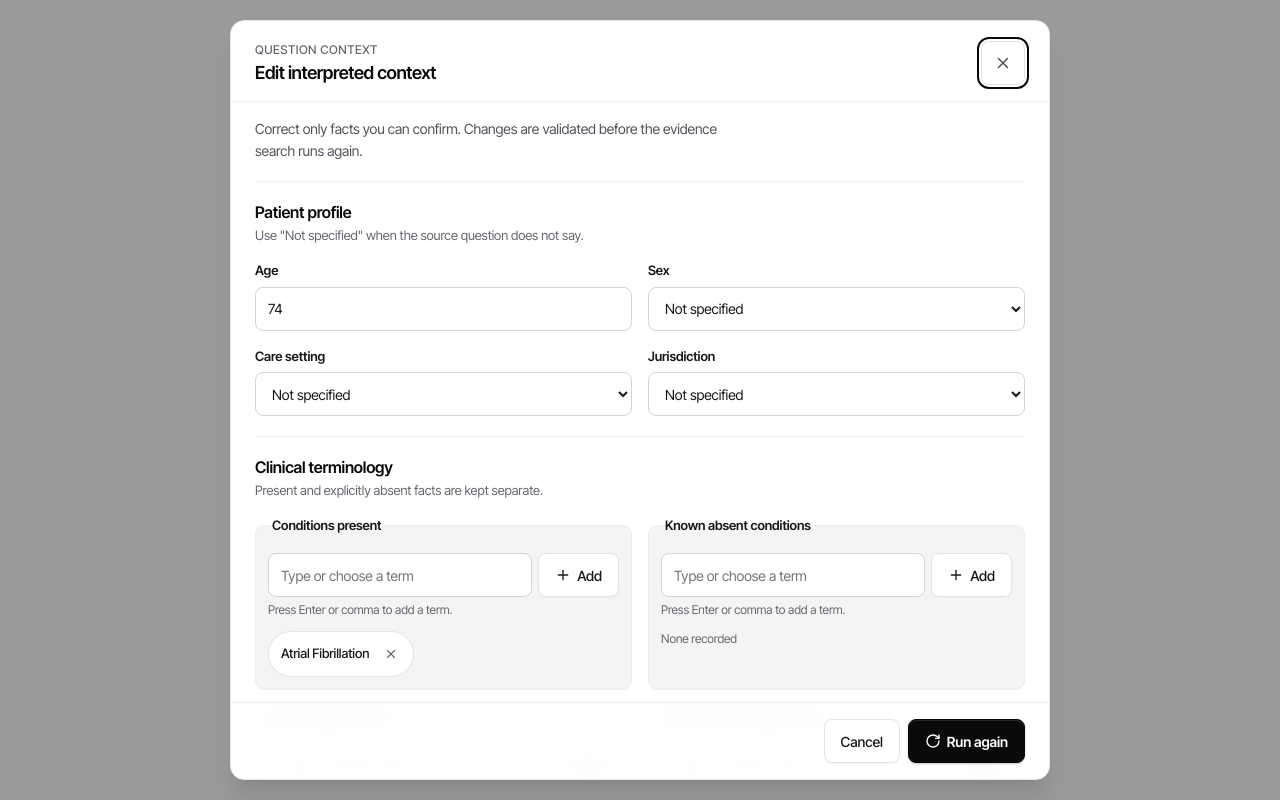
Scenario: ContextDialog › shows contradiction errors inline and prevents invalid submission
In the field named "Add known absent conditions": x=793, y=575 [661, 553, 925, 597], type "atrial fibrillation"
Then press Enter
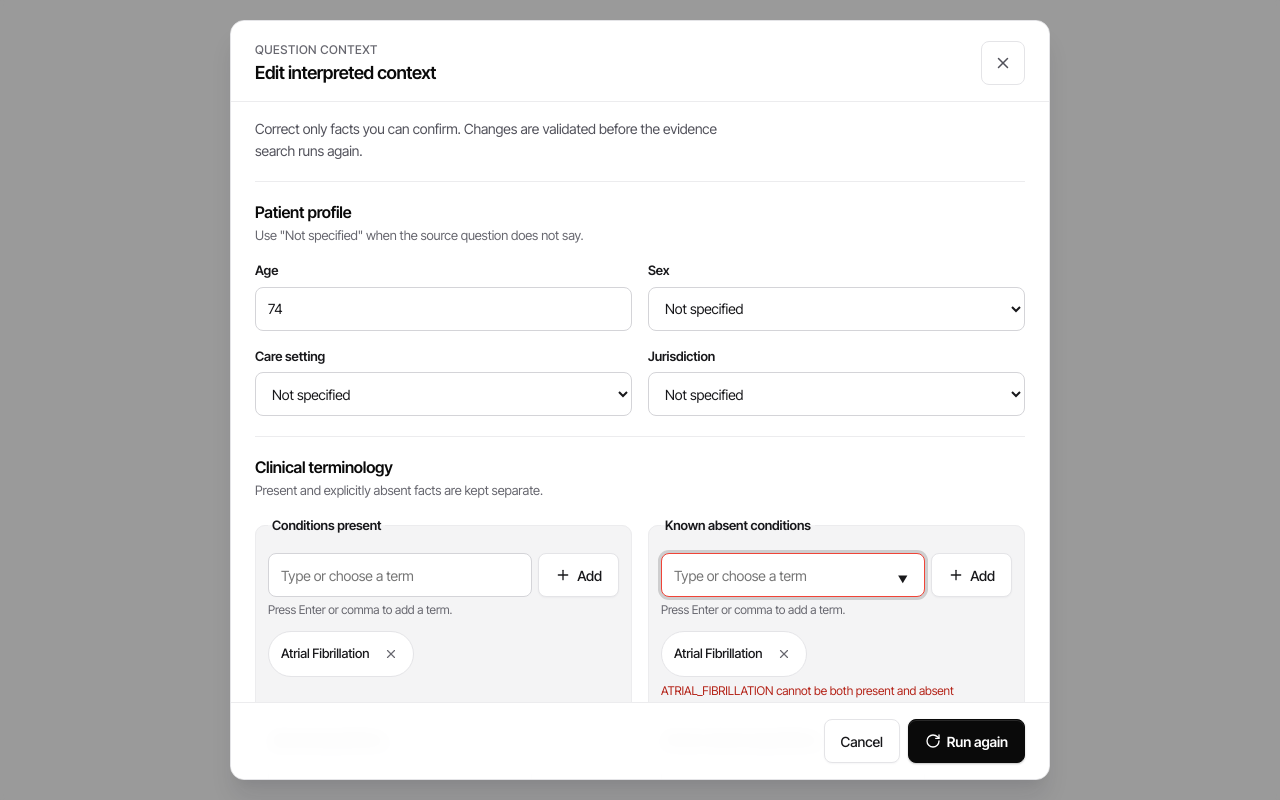
expect the text "ATRIAL_FIBRILLATION cannot be both present and absent" is shown: met, box [661, 683, 954, 698]
Click the button "Run again": x=966, y=741 [908, 719, 1025, 763]
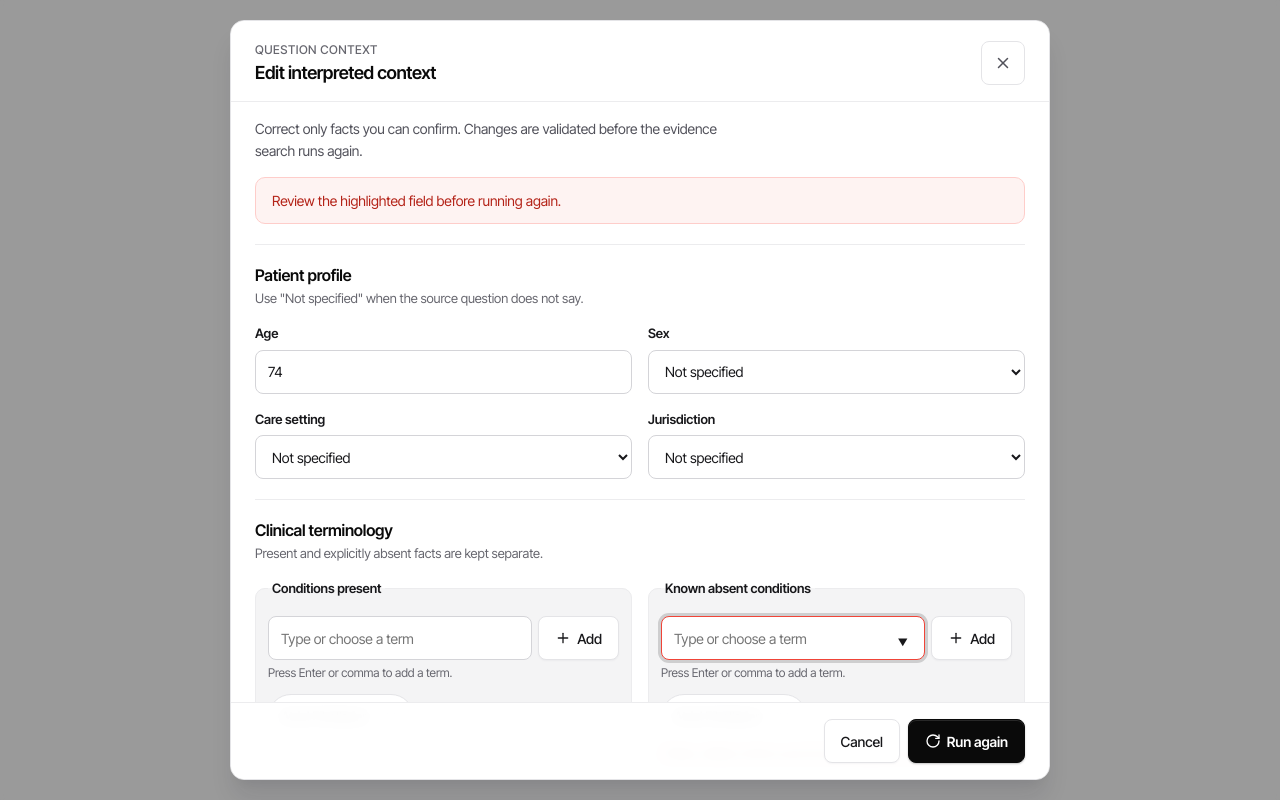
expect the message shows "highlighted field": met, box [318, 192, 433, 209]
